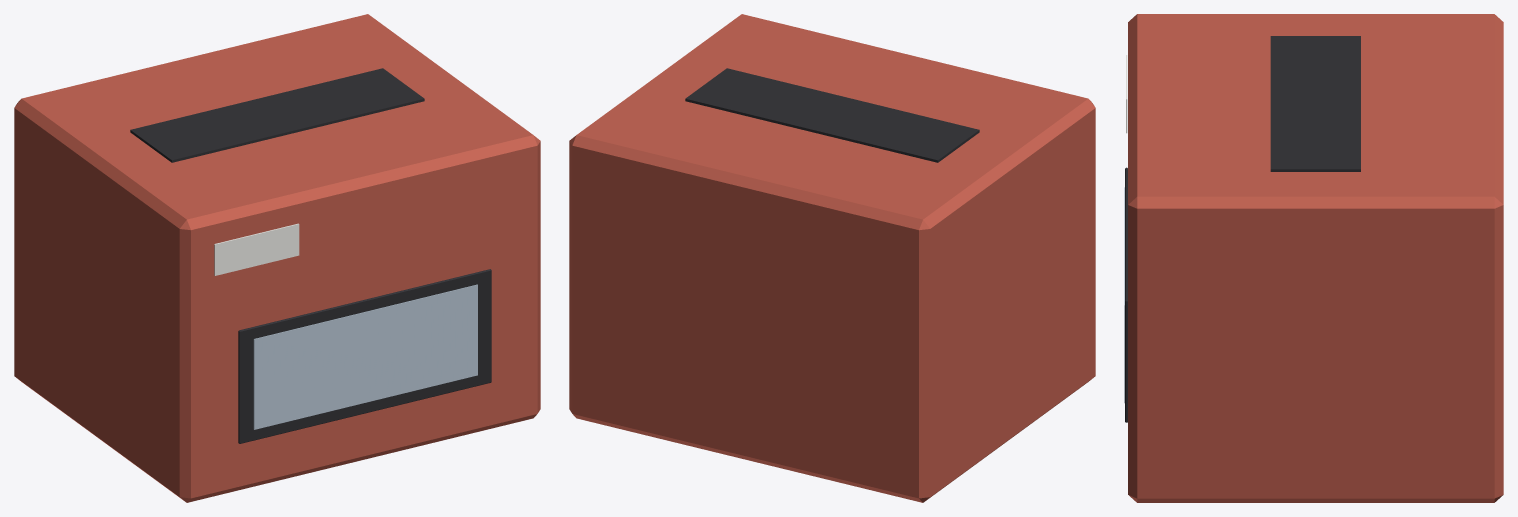
File: shredder.fbx
3 renders of one model, left to right at view 1: azimuth 30°, elevation 25°; view 2: azimuth 150°, elevation 25°; view 3: azimuth 270°, elevation 25°, orthographic. The views are drawn at different scales.
Visible parts, largest first — view 1: Shredder; view 2: Shredder; view 3: Shredder.
Boxes of the visible parts, box(x1,y1,x2,y2) form: Shredder: box(14, 14, 540, 502); Shredder: box(569, 14, 1095, 502); Shredder: box(1124, 14, 1503, 502).
Size of the model in its own units: 0.6 by 0.454 by 0.505.
